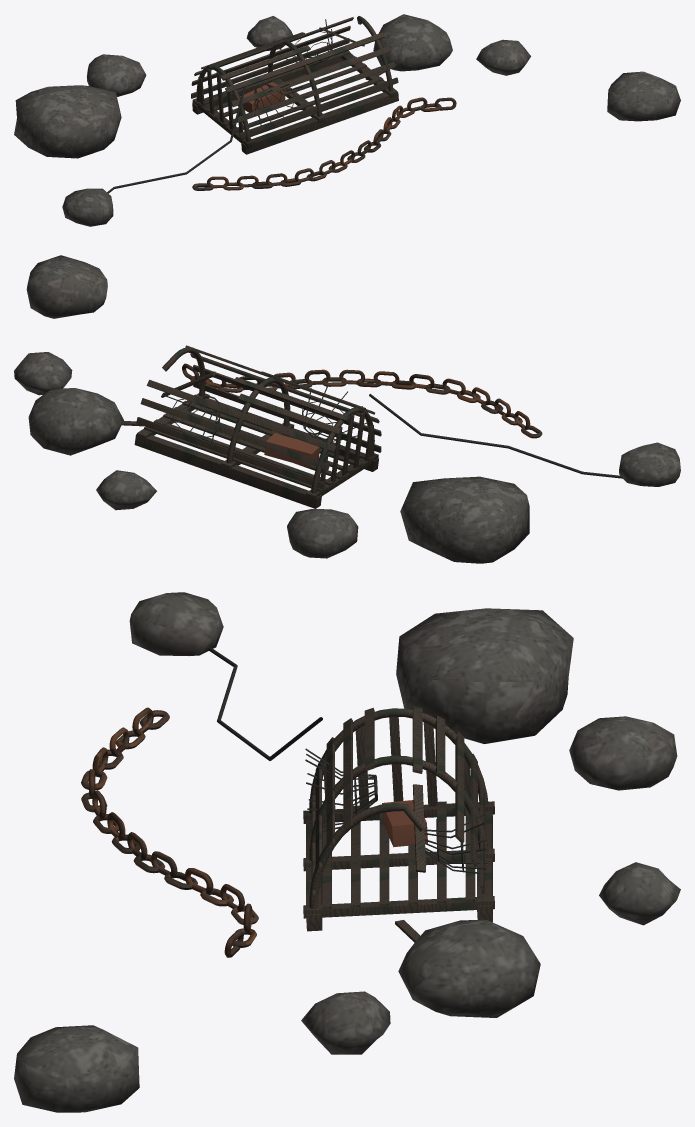
File: seabed.glb
3 renders of one model, top to bottom at view 1: azimuth 30°, elevation 25°; view 2: azimuth 150°, elevation 25°; view 3: azimuth 270°, elevation 25°, orthographic. The views are drawn at different scales.
Visible parts, largest first — view 1: lobster_pot, stone_3, stone_1, stone_6, chain, stone_4, stone_7, stone_2, stone_5; view 2: lobster_pot, stone_3, stone_1, stone_6, chain, stone_4, stone_7, stone_2, stone_5; view 3: lobster_pot, stone_3, stone_1, stone_6, chain, stone_4, stone_7, stone_2, stone_5.
Part boxes in pixels (box(x1,y1,x2,y2)): lobster_pot: box(107, 16, 398, 193); stone_3: box(14, 85, 121, 158); stone_1: box(373, 14, 452, 71); stone_6: box(607, 71, 680, 121); chain: box(192, 97, 456, 190); stone_4: box(87, 54, 146, 96); stone_7: box(62, 188, 113, 226); stone_2: box(476, 39, 530, 75); stone_5: box(246, 16, 292, 50); lobster_pot: box(122, 345, 623, 508); stone_3: box(400, 476, 529, 563); stone_1: box(28, 388, 123, 455); stone_6: box(26, 255, 107, 318); chain: box(182, 363, 542, 438); stone_4: box(287, 509, 358, 558); stone_7: box(619, 442, 680, 486); stone_2: box(14, 352, 72, 395); stone_5: box(96, 470, 156, 510); lobster_pot: box(208, 647, 494, 942); stone_3: box(396, 608, 573, 743); stone_1: box(398, 919, 540, 1017); stone_6: box(14, 1025, 139, 1112); chain: box(81, 707, 258, 957); stone_4: box(569, 716, 677, 790); stone_7: box(129, 592, 223, 655); stone_2: box(301, 991, 390, 1054); stone_5: box(599, 862, 680, 925).
Bounding box in the file's own units: 3.41 × 0.4908 × 1.95.
Materials: 5 (3 with a texture image).
